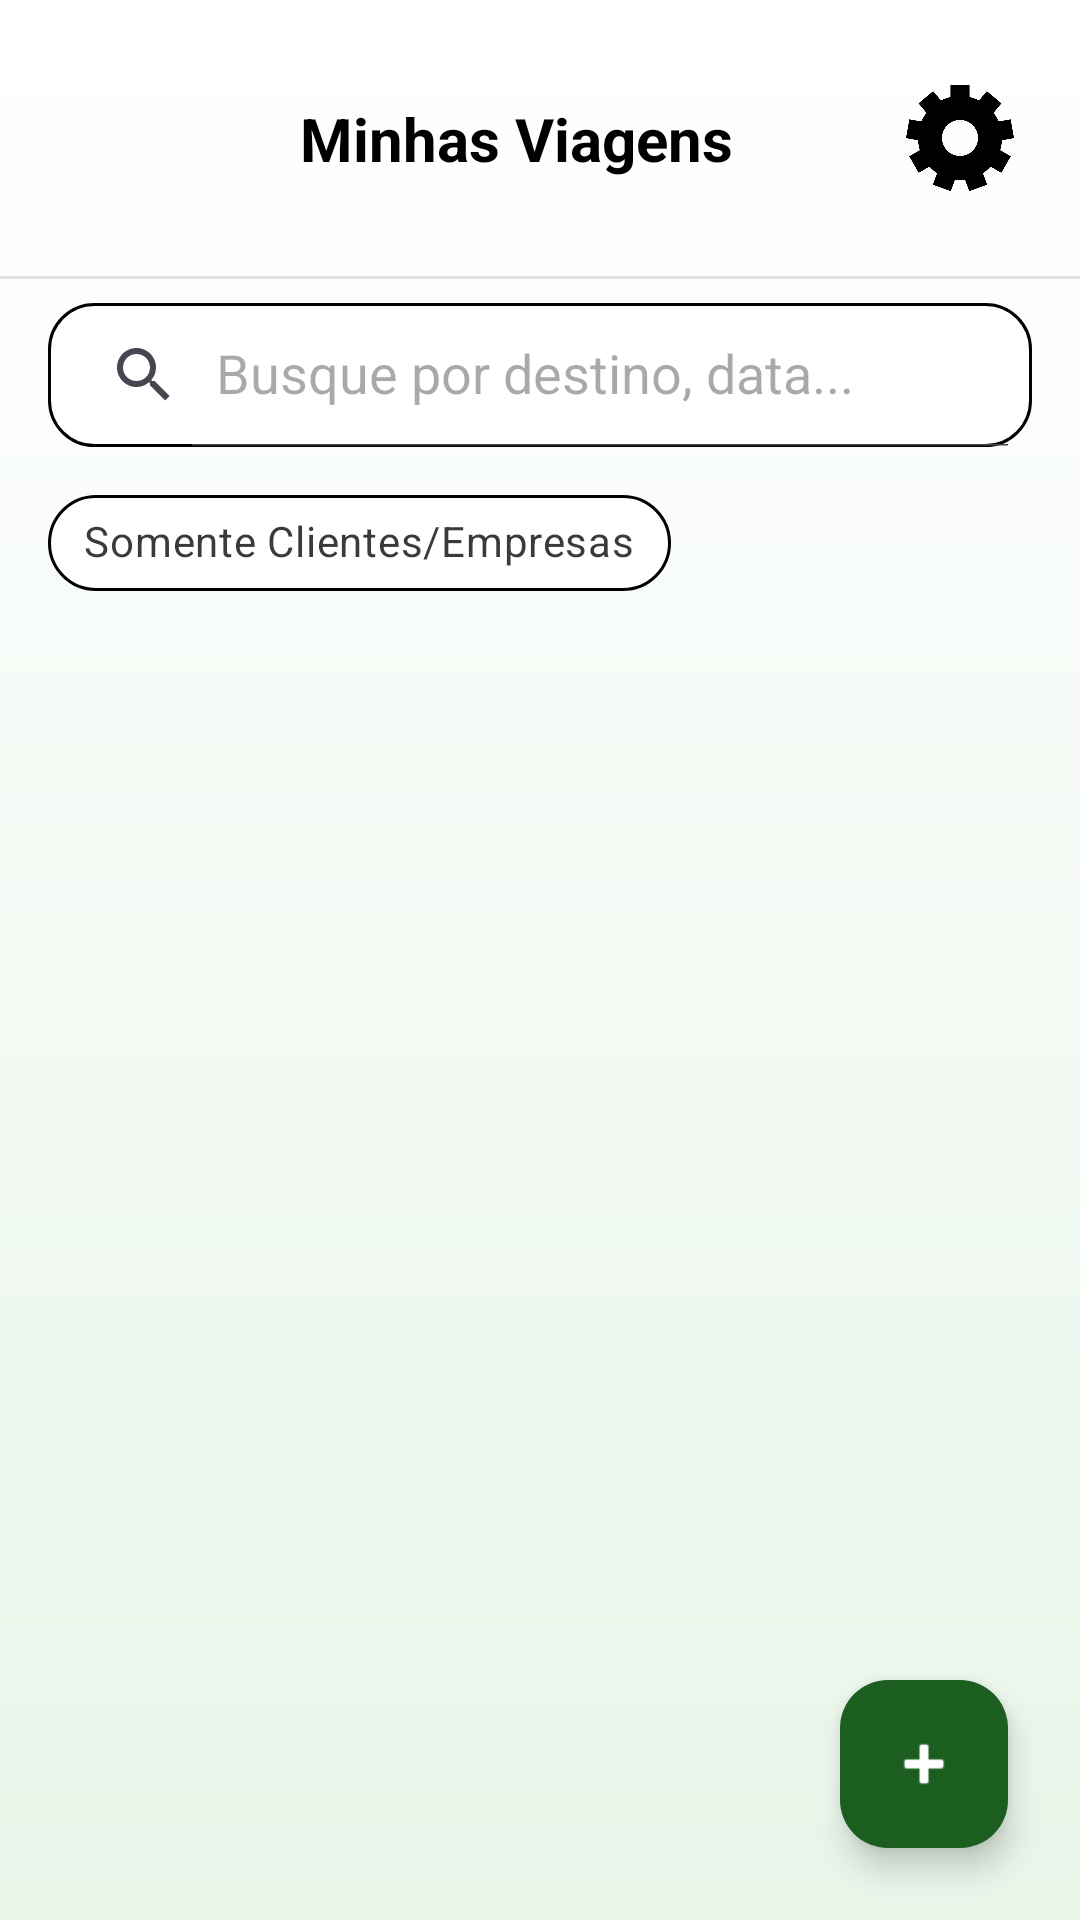

Where icons sit on this 1080x1920 app screen, as Rect(x1, y1, x2, y2):
Configurações: Rect(906, 85, 1014, 191)
Nova Viagem: Rect(840, 1680, 1008, 1848)
